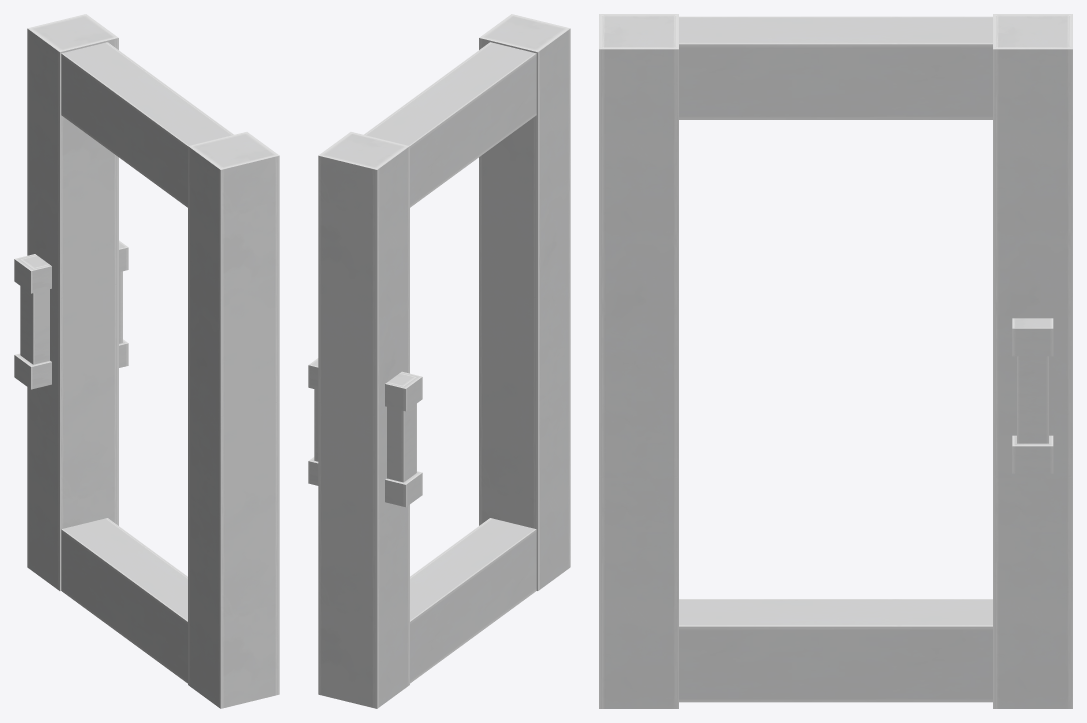
The model's file is Pfb_Door__3.fbx.
3 renders of one model, left to right at view 1: azimuth 30°, elevation 25°; view 2: azimuth 150°, elevation 25°; view 3: azimuth 270°, elevation 25°, orthographic. The views are drawn at different scales.
Parts seen in each view (by area): view 1: Mat_TS_Metall, Mat_TS_Metall 1; view 2: Mat_TS_Metall, Mat_TS_Metall 1; view 3: Mat_TS_Metall, Mat_TS_Metall 1.
Boxes of the visible parts, box(x1,y1,x2,y2) form: Mat_TS_Metall: box(27, 14, 279, 708); Mat_TS_Metall 1: box(14, 240, 128, 389); Mat_TS_Metall: box(318, 14, 570, 708); Mat_TS_Metall 1: box(308, 358, 422, 507); Mat_TS_Metall: box(599, 14, 1072, 708); Mat_TS_Metall 1: box(1012, 318, 1053, 473).
Bounding box in the file's own units: 0.4857 × 2.56 × 1.67.
Materials: 2 (2 with a texture image).
